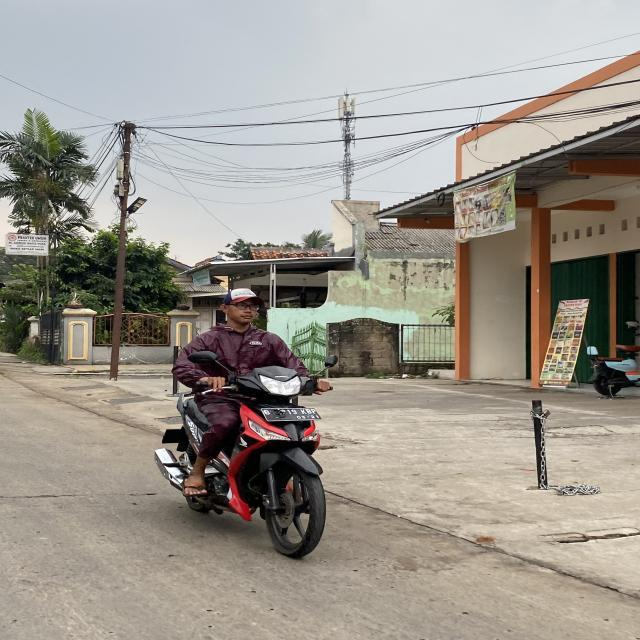Number Plate: (260, 407, 319, 421)
Rearview Mirror: (188, 351, 217, 363), (324, 355, 337, 367)
